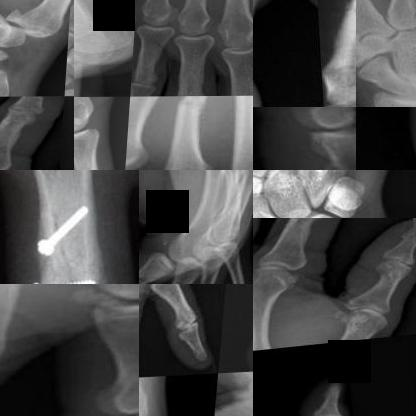fracture: (23, 193, 120, 283), (321, 0, 356, 101), (304, 136, 356, 169), (174, 96, 217, 123), (5, 6, 45, 33), (74, 35, 111, 64), (230, 170, 252, 208)
